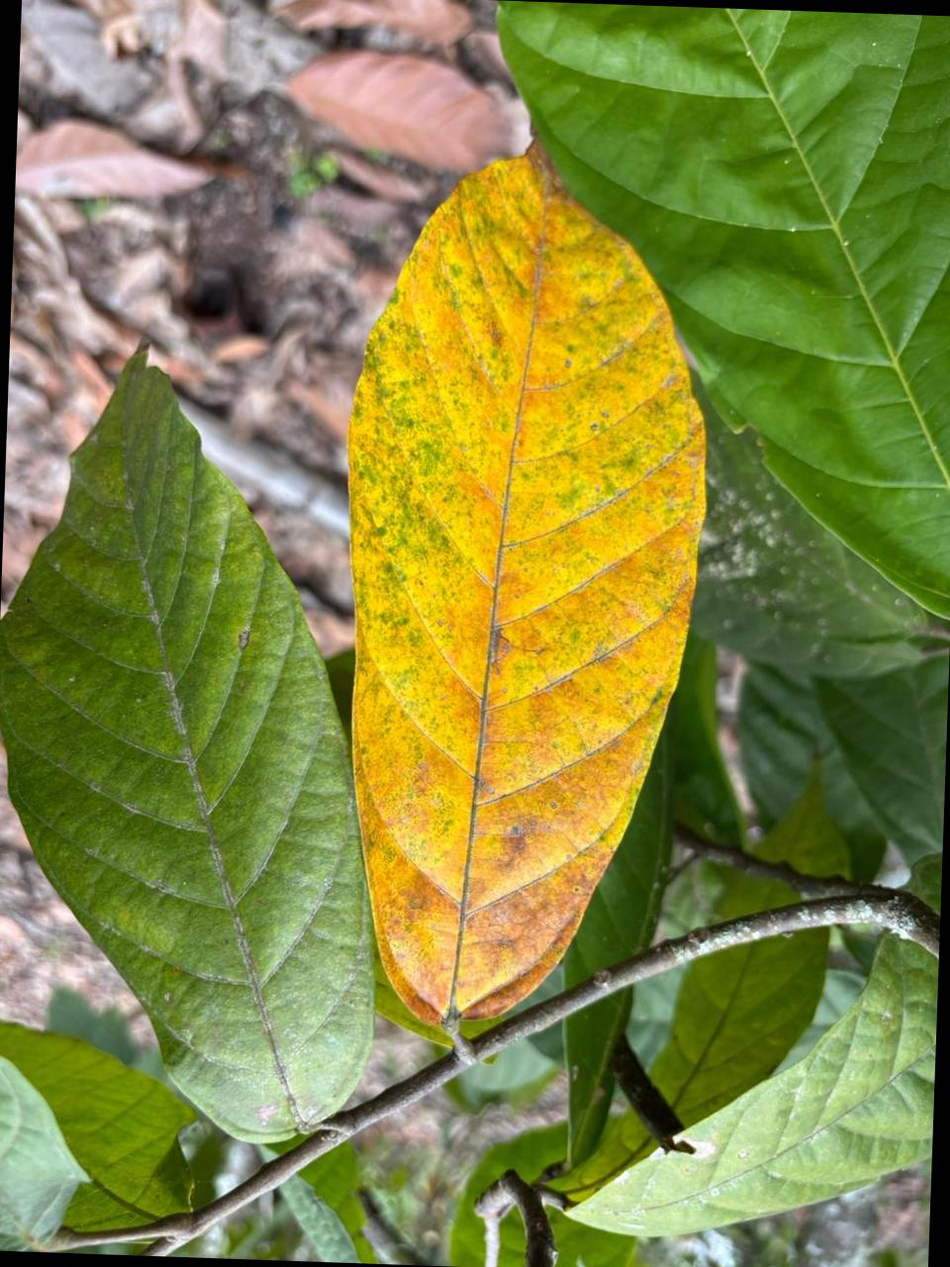Fosforo: (350, 151, 705, 1024)
